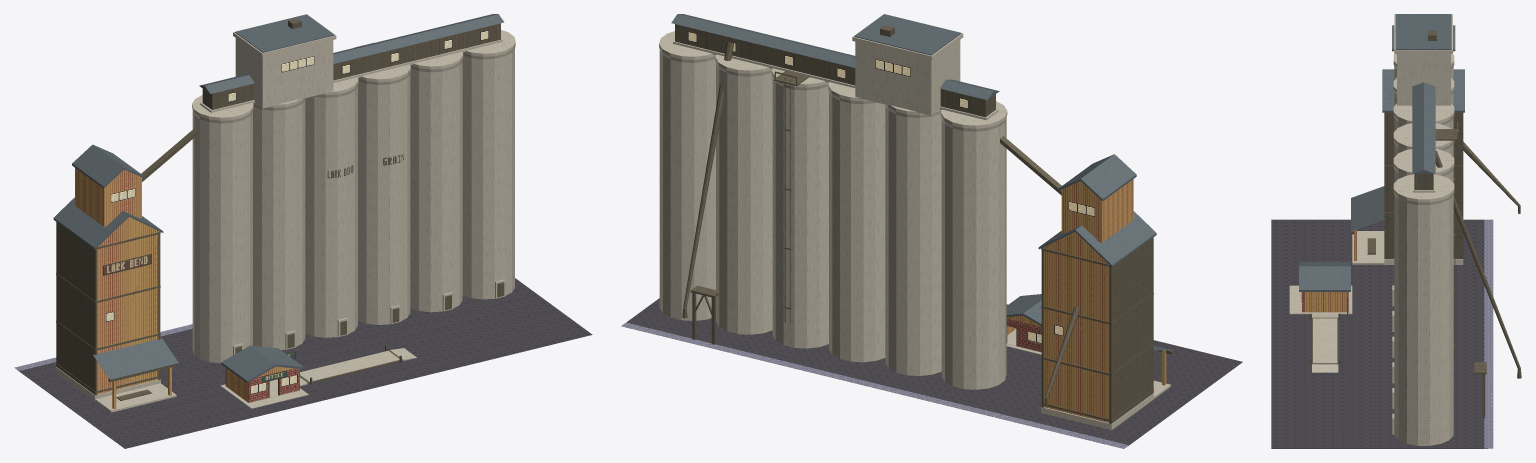
File: lark-bend-1950-mid.glb
The picture shows the model from 3 angles, left to right: view 1: azimuth 30°, elevation 25°; view 2: azimuth 150°, elevation 25°; view 3: azimuth 270°, elevation 25°; orthographic projection. The views are drawn at different scales.
Parts seen in each view (by area): view 1: concrete_elevator, lot, timber_elevator, scale_office; view 2: concrete_elevator, timber_elevator, lot, scale_office; view 3: lot, concrete_elevator, timber_elevator, scale_office.
Boxes of the visible parts, x1=… form: concrete_elevator: x1=192, y1=14, x2=515, y2=363; lot: x1=14, y1=278, x2=592, y2=448; timber_elevator: x1=53, y1=127, x2=198, y2=412; scale_office: x1=221, y1=345, x2=304, y2=402; concrete_elevator: x1=659, y1=14, x2=1007, y2=389; timber_elevator: x1=1000, y1=136, x2=1172, y2=430; lot: x1=621, y1=298, x2=1242, y2=448; scale_office: x1=1006, y1=294, x2=1041, y2=352; lot: x1=1271, y1=219, x2=1493, y2=448; concrete_elevator: x1=1392, y1=14, x2=1521, y2=445; timber_elevator: x1=1351, y1=25, x2=1520, y2=264; scale_office: x1=1299, y1=262, x2=1350, y2=312.
Size of what is drawn, in the model's own units: 71 by 44.71 by 32.8.
9 materials, 9 textured.
